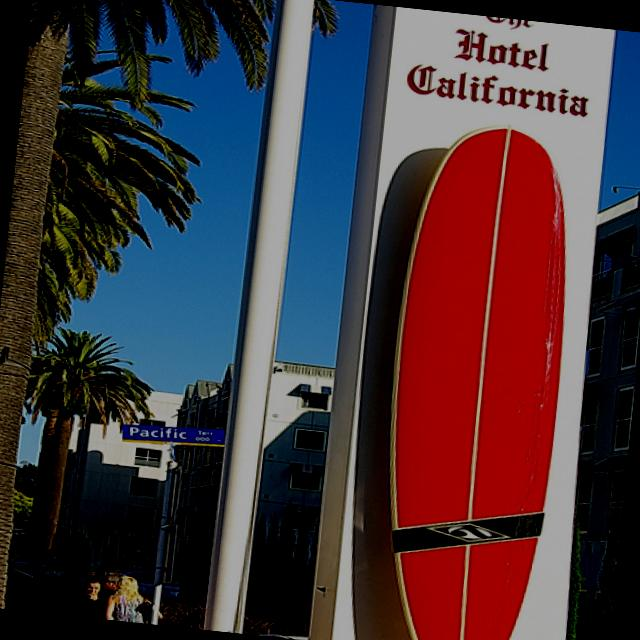Vehicle: (122, 569, 180, 601), (53, 567, 91, 591)
